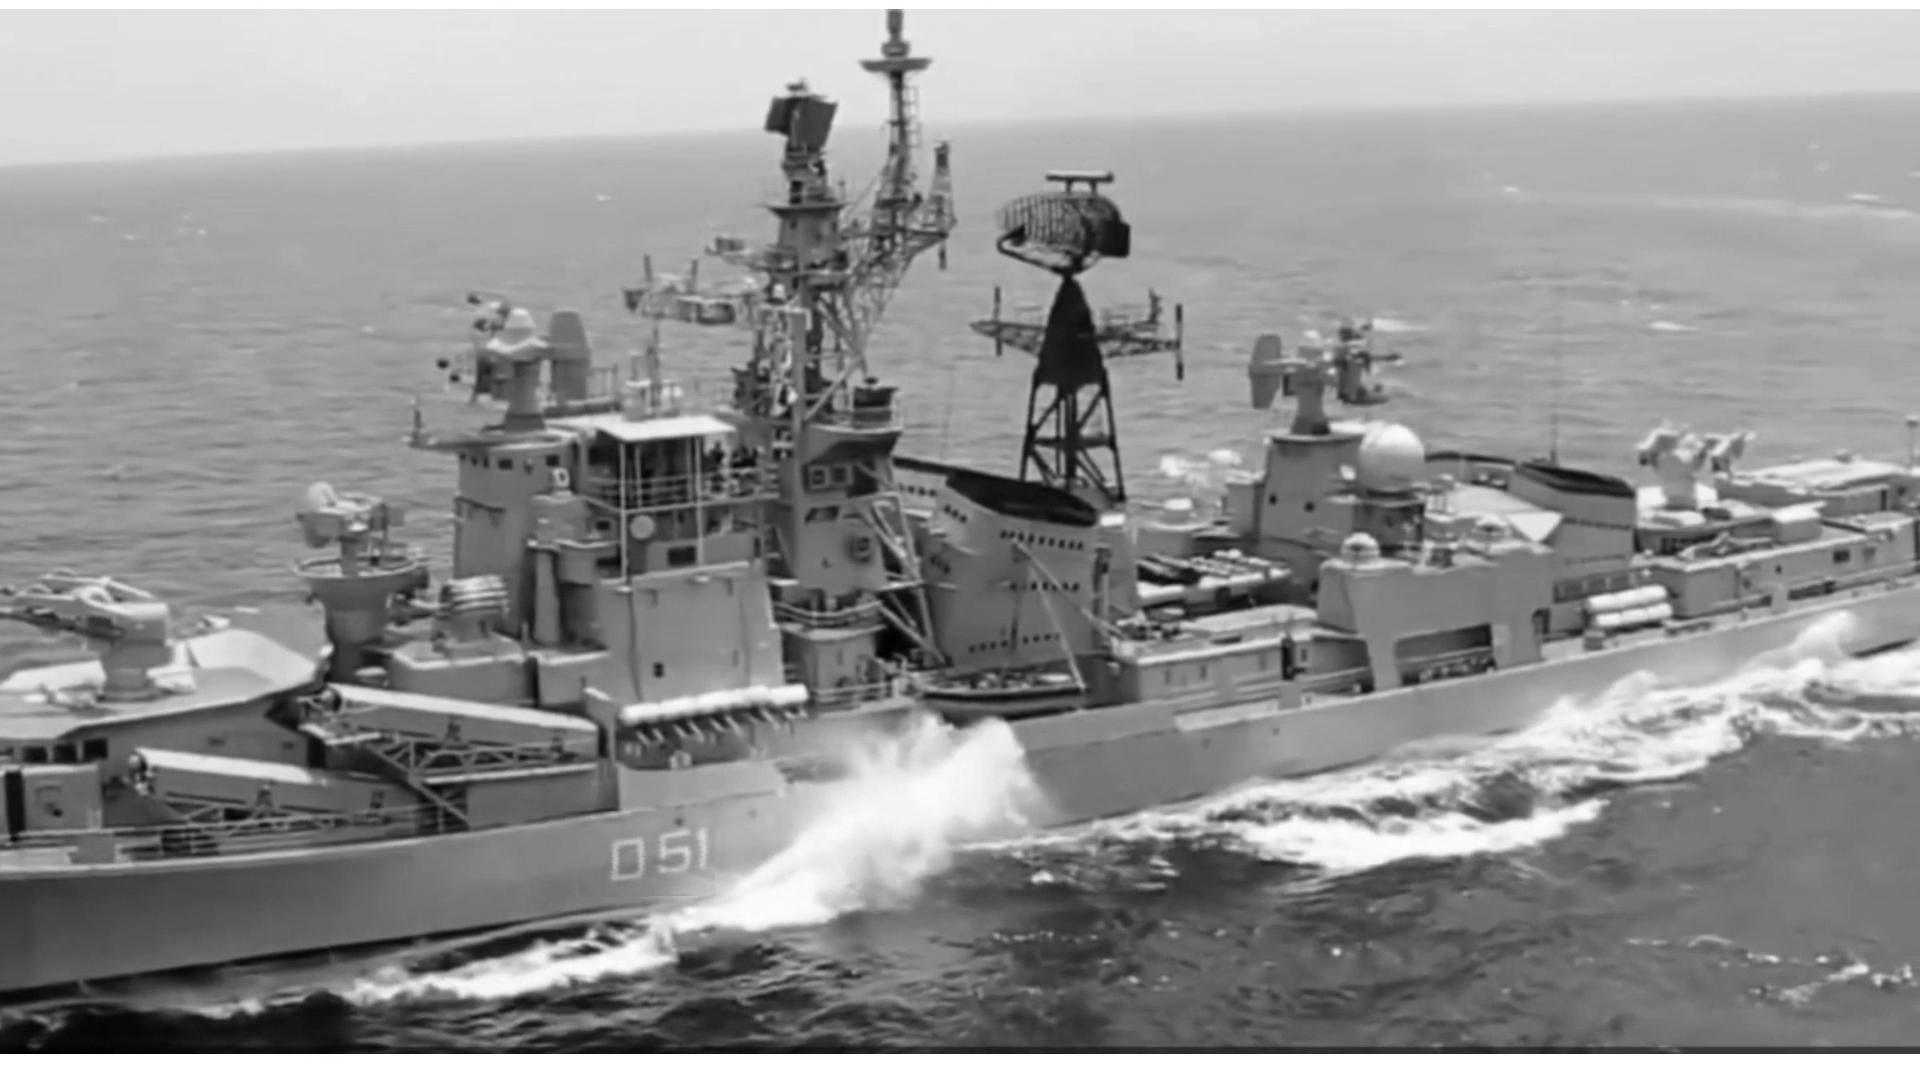OCR: (564, 812, 715, 898)
